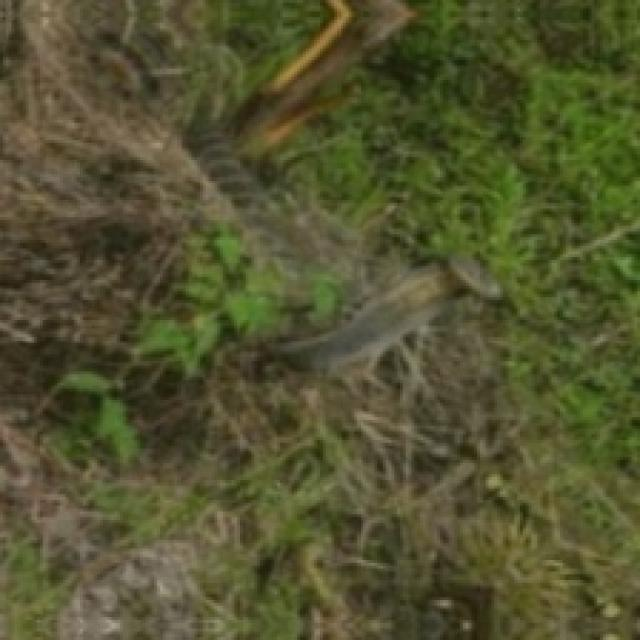king cobra: (234, 0, 411, 151), (274, 257, 500, 369)
